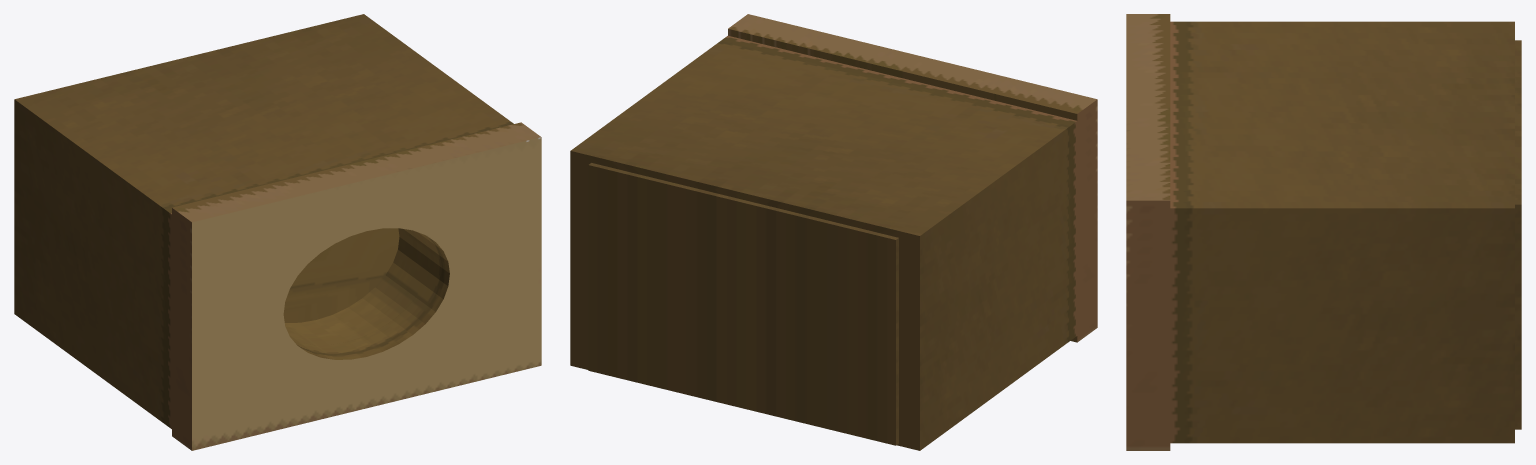
Rendered from pz_counter_birchwood_floor__sink_inset_oval.obj.
3 renders of one model, left to right at view 1: azimuth 30°, elevation 25°; view 2: azimuth 150°, elevation 25°; view 3: azimuth 270°, elevation 25°, orthographic. The views are drawn at different scales.
Size of the model in its own units: 1 by 0.6266 by 0.895.
1 material, 1 textured.
